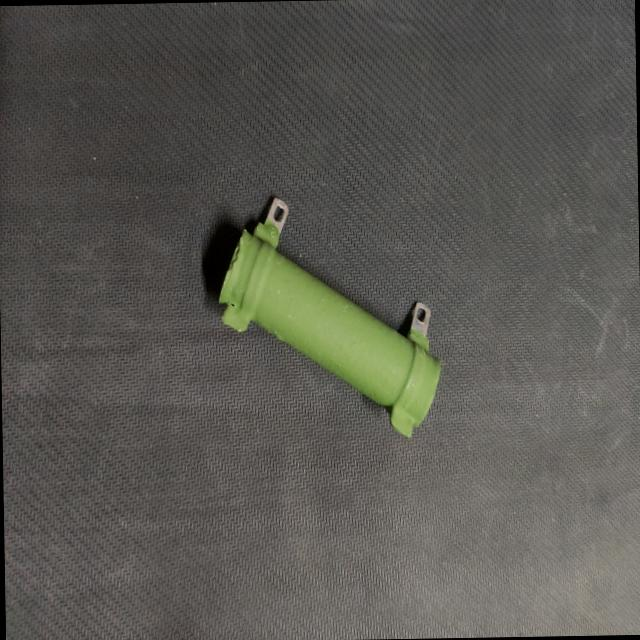resistor: (219, 197, 440, 436)
